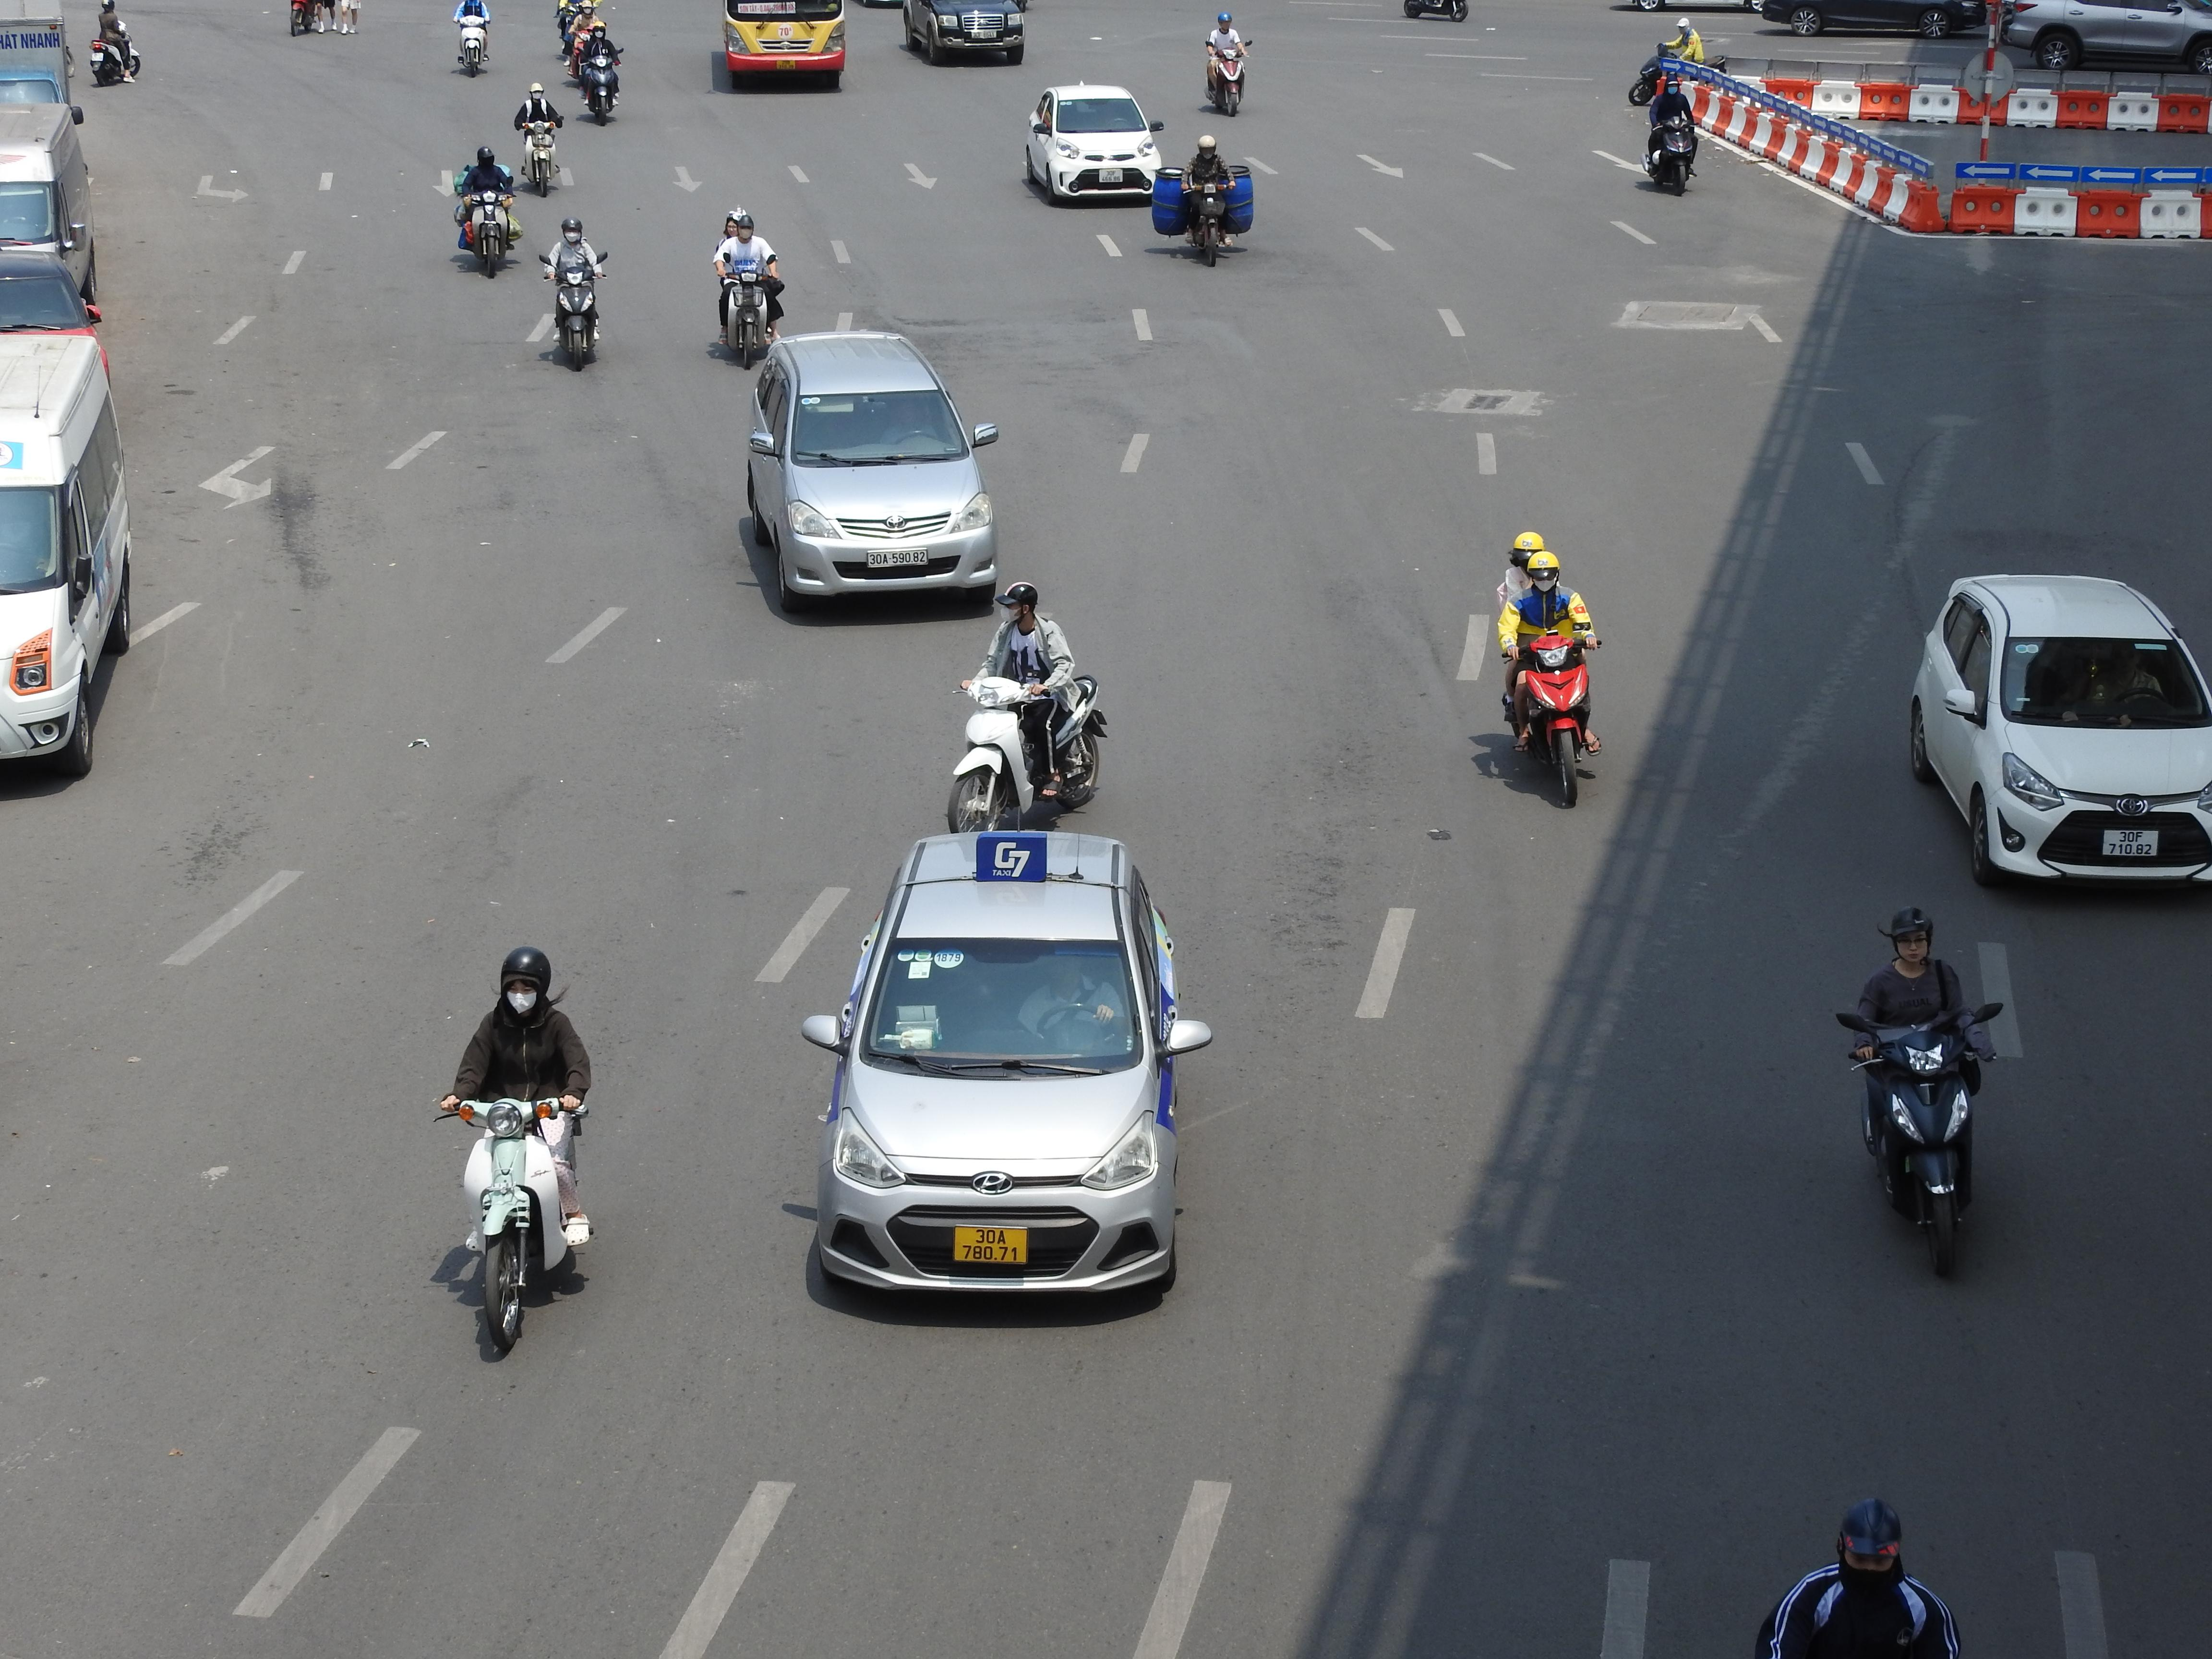BSD: (866, 547, 928, 568)
BSV: (953, 1225, 1028, 1263), (2102, 829, 2158, 857), (1099, 171, 1123, 183)
bus: (0, 326, 138, 782)
car: (794, 828, 1212, 1312), (1905, 570, 2212, 896), (740, 329, 1001, 613), (1024, 84, 1167, 206), (2003, 0, 2212, 73), (899, 0, 1028, 66)
motorbike: (432, 945, 594, 1363), (1841, 903, 2005, 1283), (948, 582, 1106, 836), (1752, 1495, 1963, 1659), (1496, 533, 1601, 810), (1163, 132, 1252, 267), (712, 207, 786, 368), (540, 214, 608, 373), (451, 143, 521, 277), (1630, 14, 1730, 106), (1639, 66, 1700, 197), (514, 80, 564, 197), (575, 17, 622, 125), (1204, 10, 1249, 117), (87, 2, 141, 85), (451, 0, 493, 77), (554, 0, 597, 68), (287, 0, 354, 37)
